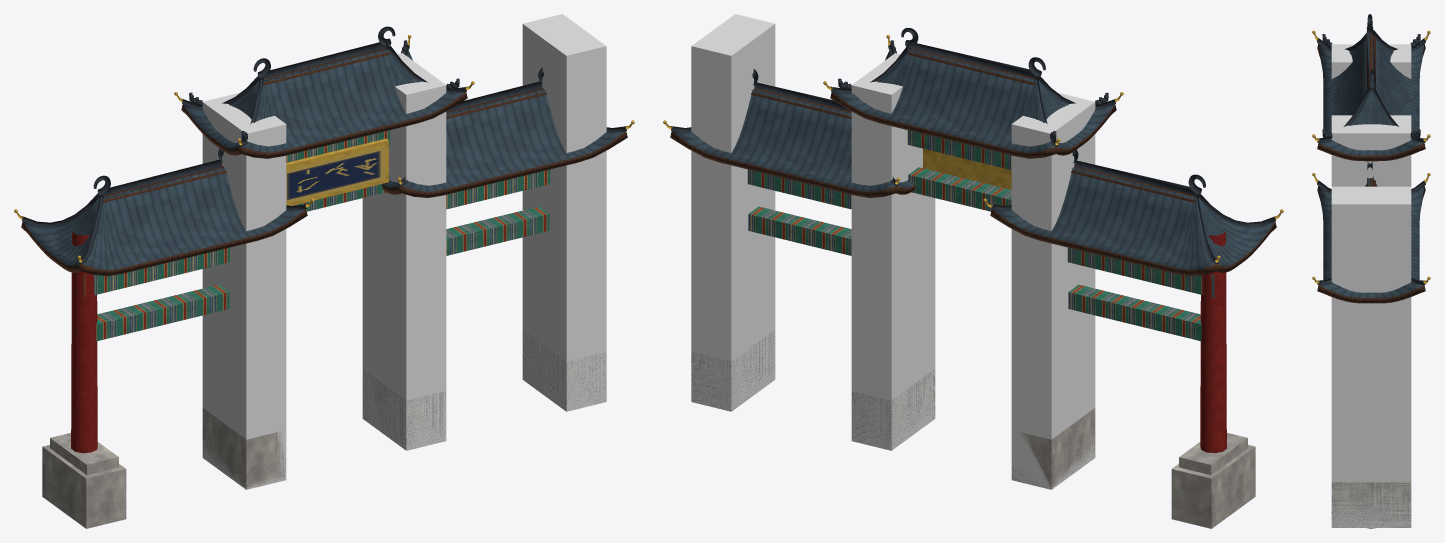
The model's file is inner_sect_gate.glb.
3 renders of one model, left to right at view 1: azimuth 30°, elevation 25°; view 2: azimuth 150°, elevation 25°; view 3: azimuth 270°, elevation 25°, orthographic. The views are drawn at different scales.
Visible parts, largest first — view 1: InnerGatePier-convcolonly.003, InnerGatePier-convcolonly.002, InnerGatePier-convcolonly.001, InnerGatePlinths, InnerGateR0Roof, InnerGateR1Roof, InnerGateBeams, InnerGateR2Roof, InnerGatePillars, Plaque, InnerGateR1RoofRidges, InnerGateR0RoofRidges (+2 smaller); view 2: InnerGatePier-convcolonly.003, InnerGatePier-convcolonly.002, InnerGatePier-convcolonly.001, InnerGateR0Roof, InnerGateBeams, InnerGatePlinths, InnerGateR1Roof, InnerGateR2Roof, InnerGatePillars, InnerGateR1RoofRidges, InnerGateR0RoofRidges, PlaqueFrame (+1 smaller); view 3: InnerGatePier-convcolonly.003, InnerGateR1Roof, InnerGatePier-convcolonly.002, InnerGatePlinths, InnerGateR2Roof, InnerGateR1RoofRidges, InnerGatePier-convcolonly.001, InnerGateR2RoofRidges, InnerGateR1RidgeBeasts.
Boxes of the visible parts, bbox=[...] form: InnerGatePier-convcolonly.003: bbox=[522, 14, 606, 411]; InnerGatePier-convcolonly.002: bbox=[362, 53, 446, 450]; InnerGatePier-convcolonly.001: bbox=[202, 93, 286, 489]; InnerGatePlinths: bbox=[42, 331, 606, 528]; InnerGateR0Roof: bbox=[21, 166, 307, 276]; InnerGateR1Roof: bbox=[181, 48, 467, 158]; InnerGateBeams: bbox=[83, 130, 550, 341]; InnerGateR2Roof: bbox=[382, 88, 627, 197]; InnerGatePillars: bbox=[71, 232, 97, 453]; Plaque: bbox=[286, 146, 385, 203]; InnerGateR1RoofRidges: bbox=[182, 26, 466, 146]; InnerGateR0RoofRidges: bbox=[22, 148, 306, 263]; InnerGatePier-convcolonly.003: bbox=[691, 14, 775, 411]; InnerGatePier-convcolonly.002: bbox=[851, 53, 935, 450]; InnerGatePier-convcolonly.001: bbox=[1011, 93, 1095, 489]; InnerGateR0Roof: bbox=[990, 166, 1276, 276]; InnerGateBeams: bbox=[747, 130, 1214, 341]; InnerGatePlinths: bbox=[691, 330, 1255, 528]; InnerGateR1Roof: bbox=[830, 48, 1116, 158]; InnerGateR2Roof: bbox=[670, 88, 915, 197]; InnerGatePillars: bbox=[1200, 232, 1226, 453]; InnerGateR1RoofRidges: bbox=[831, 28, 1115, 146]; InnerGateR0RoofRidges: bbox=[991, 149, 1275, 263]; PlaqueFrame: bbox=[923, 148, 1011, 189]; InnerGatePier-convcolonly.003: bbox=[1331, 186, 1411, 527]; InnerGateR1Roof: bbox=[1317, 34, 1425, 161]; InnerGatePier-convcolonly.002: bbox=[1331, 115, 1411, 186]; InnerGatePlinths: bbox=[1331, 482, 1411, 528]; InnerGateR2Roof: bbox=[1317, 178, 1425, 303]; InnerGateR1RoofRidges: bbox=[1317, 14, 1425, 142]; InnerGatePier-convcolonly.001: bbox=[1331, 44, 1411, 78]; InnerGateR2RoofRidges: bbox=[1317, 161, 1425, 284]; InnerGateR1RidgeBeasts: bbox=[1322, 34, 1420, 139].
Size of what is drawn, in the model's own units: 13.92 by 9.76 by 2.82.
8 materials, 8 textured.
